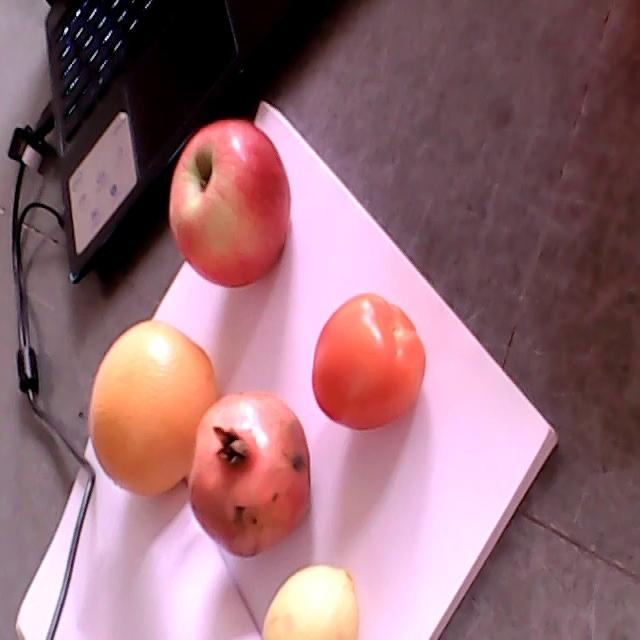apple: (170, 121, 291, 290)
lemon: (262, 563, 360, 639)
orange: (88, 320, 217, 496)
pomegranate: (190, 389, 311, 558)
tomato: (313, 294, 425, 430)
